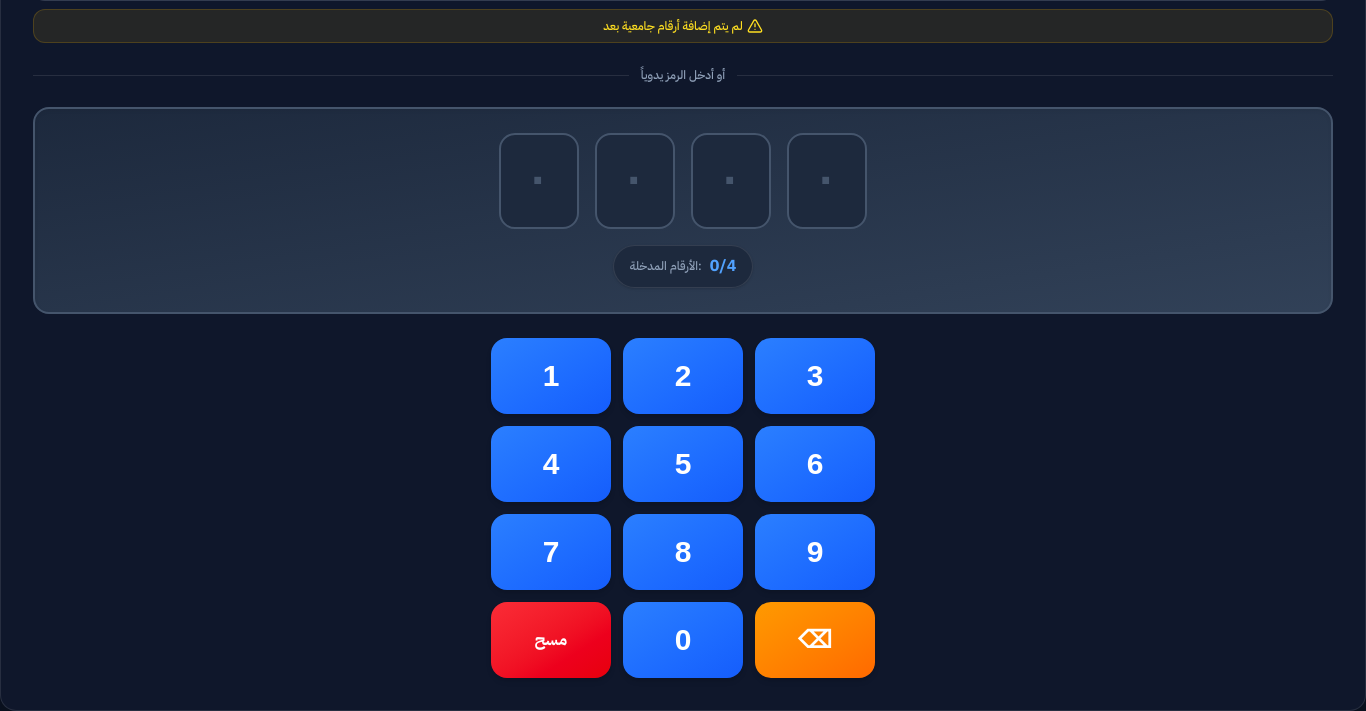
Test: AttendanceLogin › Escape key clears code
(page scrolled)
Click the button "7" at point(551, 552), box [491,514,611,590]
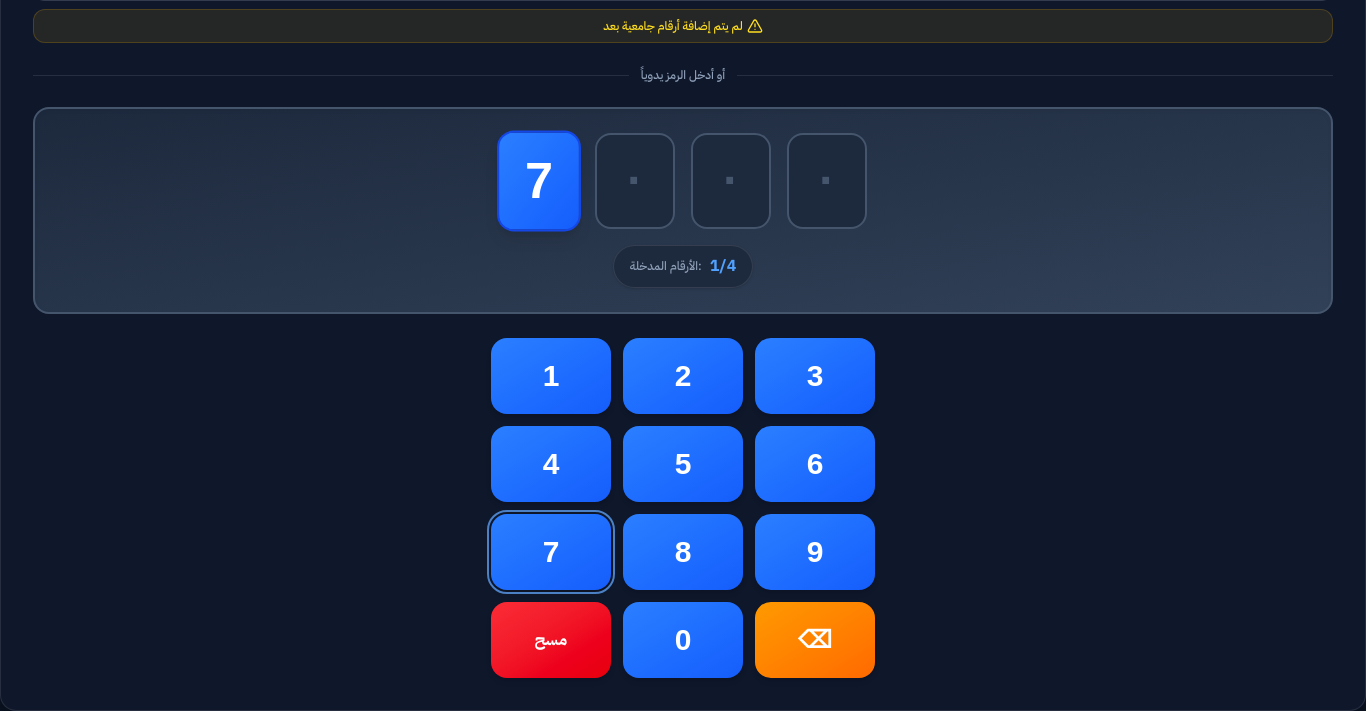
Check: the text "1/4" is shown, box [710,252,736,281]
Press Escape
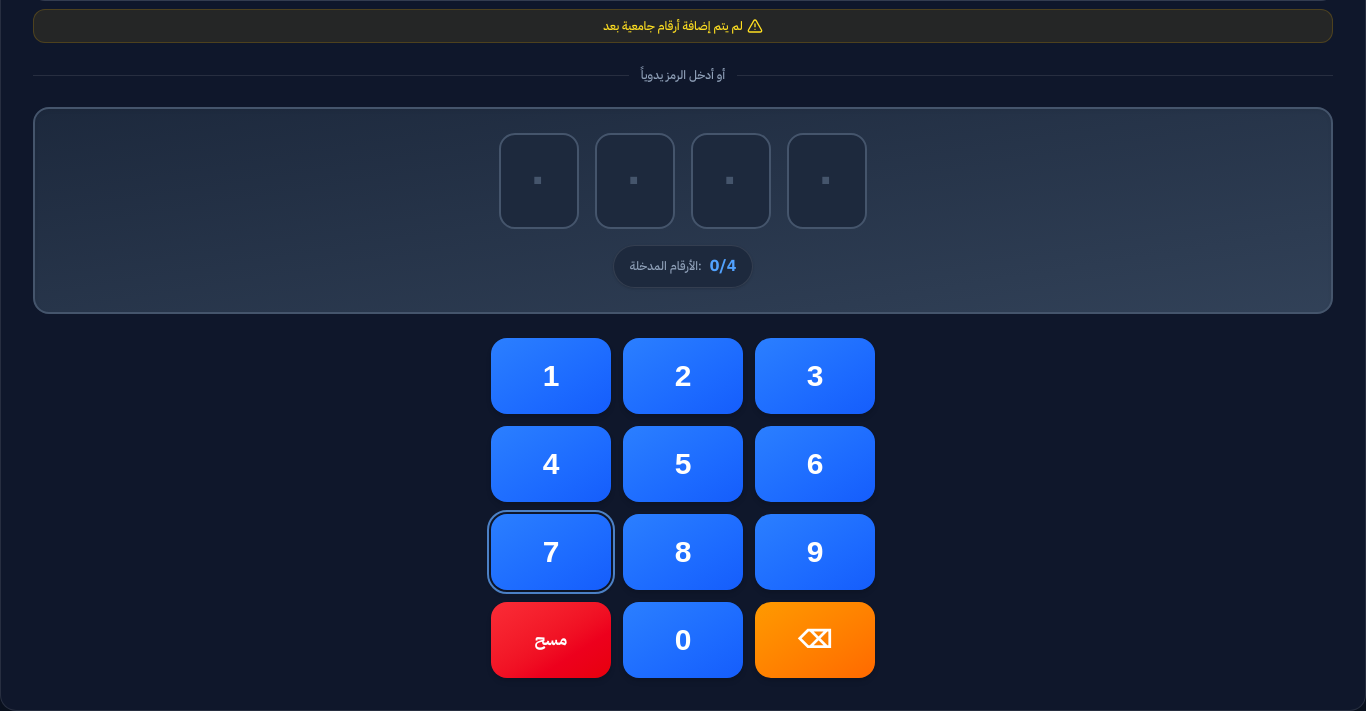
Check: the text "0/4" is shown, box [710,252,736,281]
